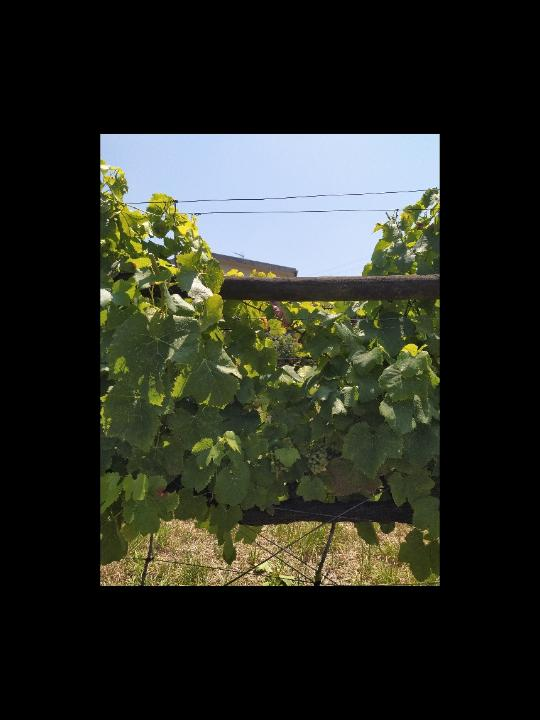grape: (302, 441, 330, 475)
